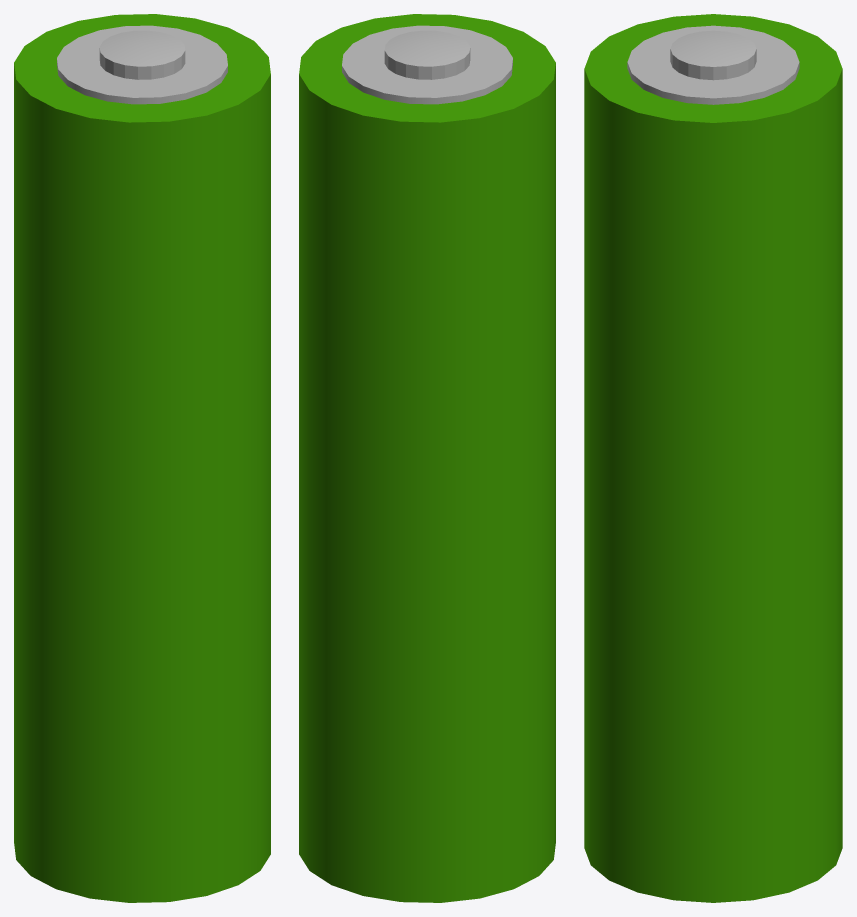
The model's file is batterycharged.fbx.
3 renders of one model, left to right at view 1: azimuth 30°, elevation 25°; view 2: azimuth 150°, elevation 25°; view 3: azimuth 270°, elevation 25°, orthographic.
Parts seen in each view (by area): view 1: pCylinder1; view 2: pCylinder1; view 3: pCylinder1.
Boxes of the visible parts, left/top/right/bottom form: pCylinder1: left=14, top=14, right=270, bottom=902; pCylinder1: left=299, top=14, right=555, bottom=902; pCylinder1: left=584, top=14, right=842, bottom=902.
Size of the model in its own units: 0.8547 by 2.95 by 0.8547.
